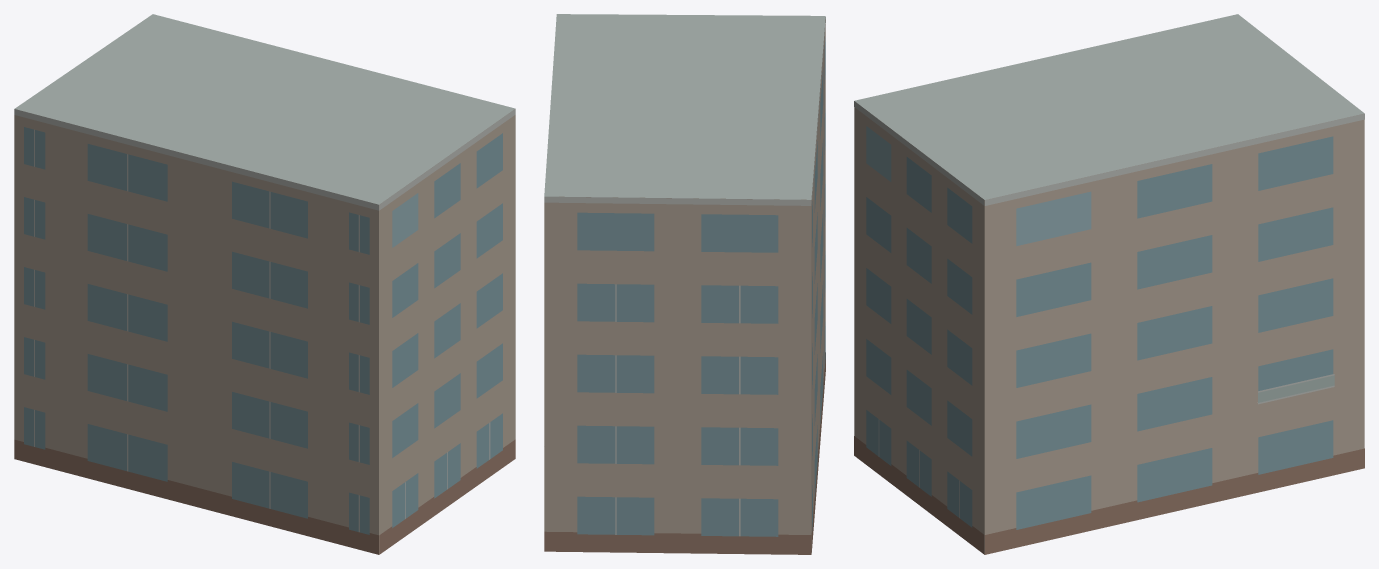
The model's file is survey-upis-32712787.glb.
3 views of the same model, side by side, from view 1: azimuth 30°, elevation 25°; view 2: azimuth 150°, elevation 25°; view 3: azimuth 270°, elevation 25° (orthographic).
Parts seen in each view (by area): view 1: survey-upis-32712787.tmp; view 2: survey-upis-32712787.tmp; view 3: survey-upis-32712787.tmp.
Boxes of the visible parts, <box> form: survey-upis-32712787.tmp: <box>14,14,515,554</box>; survey-upis-32712787.tmp: <box>544,14,825,554</box>; survey-upis-32712787.tmp: <box>854,14,1364,554</box>.
Size of the model in its own units: 15.98 by 14.2 by 18.53.
